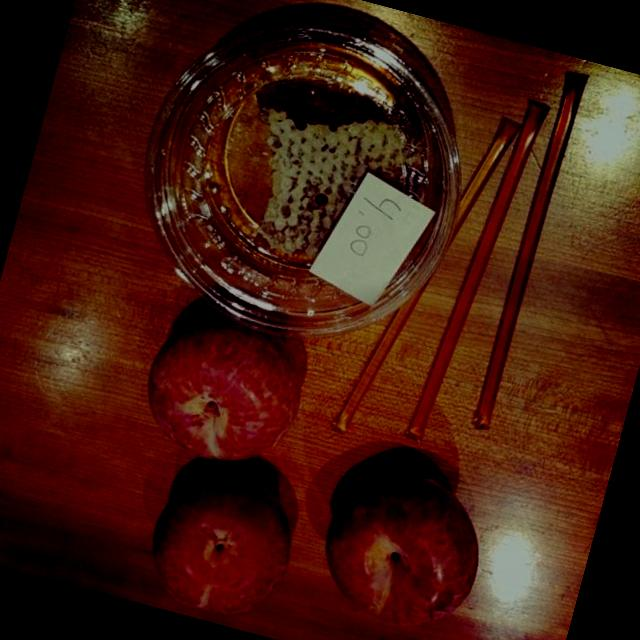Apple: (307, 453, 498, 640), (132, 291, 320, 479), (136, 454, 308, 630)
